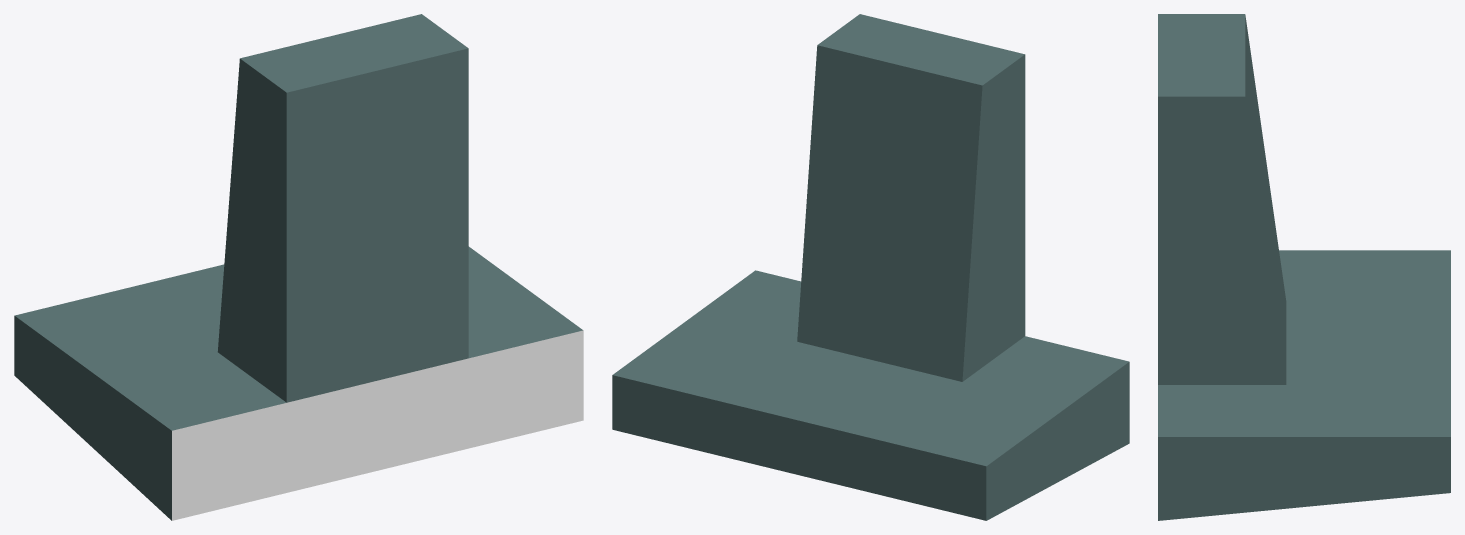
Rendered from Appliance_Kitchen_Stove_Hood.glb.
The picture shows the model from 3 angles, left to right: view 1: azimuth 30°, elevation 25°; view 2: azimuth 150°, elevation 25°; view 3: azimuth 270°, elevation 25°; orthographic projection. The views are drawn at different scales.
Parts seen in each view (by area): view 1: hoodModern; view 2: hoodModern; view 3: hoodModern.
Part boxes in pixels (x1,y1,x2,y2): hoodModern: (14, 14, 583, 520); hoodModern: (612, 14, 1129, 520); hoodModern: (1158, 14, 1450, 520).
Bounding box in the file's own units: 0.43 × 0.3995 × 0.2849.
